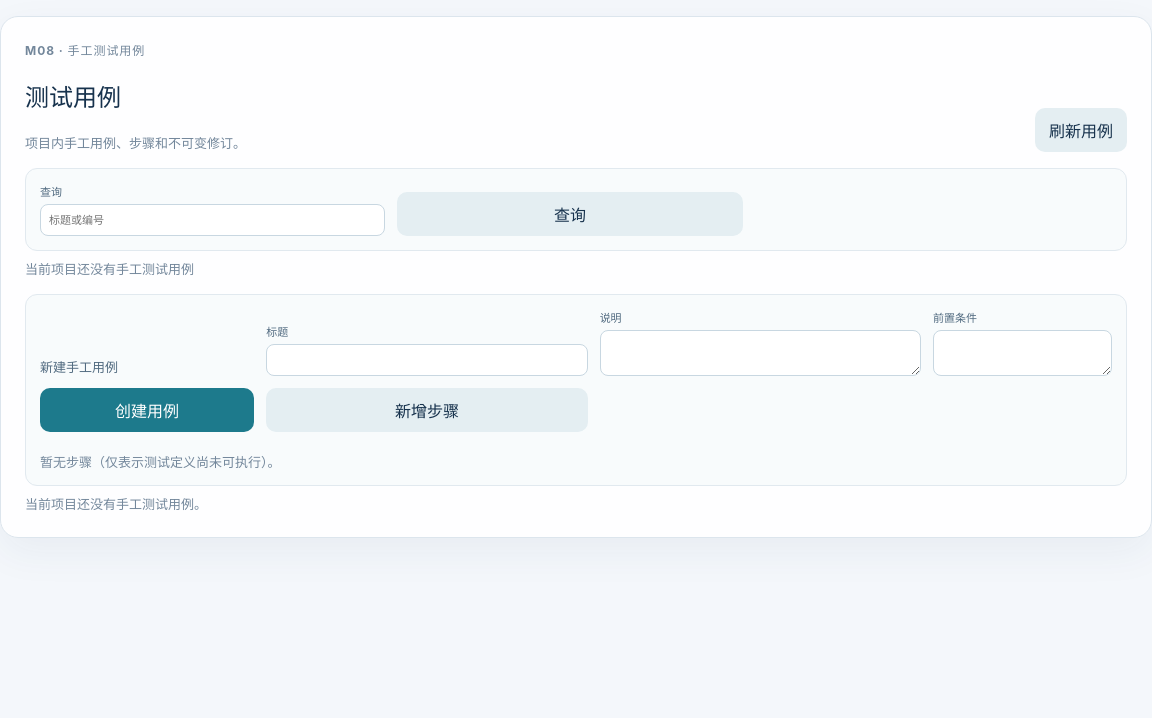
Test: TestCasesPanel › creates a manual case with step content and stable draft step key
Expected: the text "当前项目还没有手工测试用例" is shown, [25,261,194,277]
Type "Checkout" into the field named "测试用例标题" at (427, 360), box [266,344,588,376]
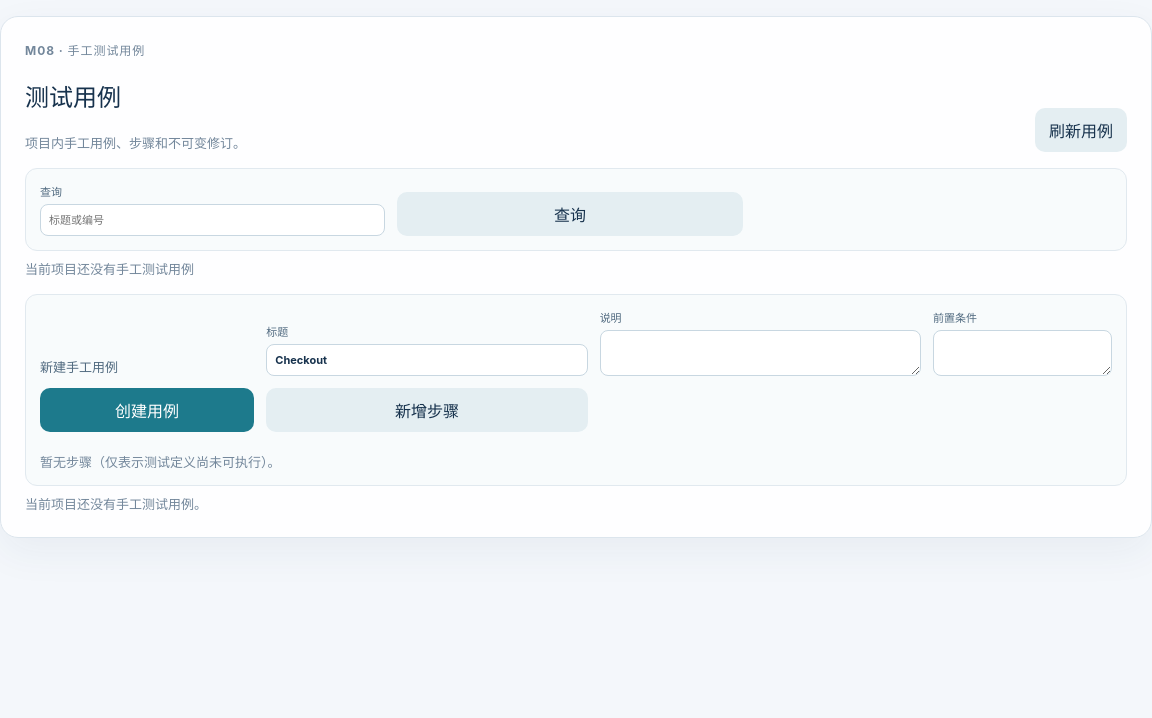
Click the button "新增步骤" at (427, 410), box [266,388,588,432]
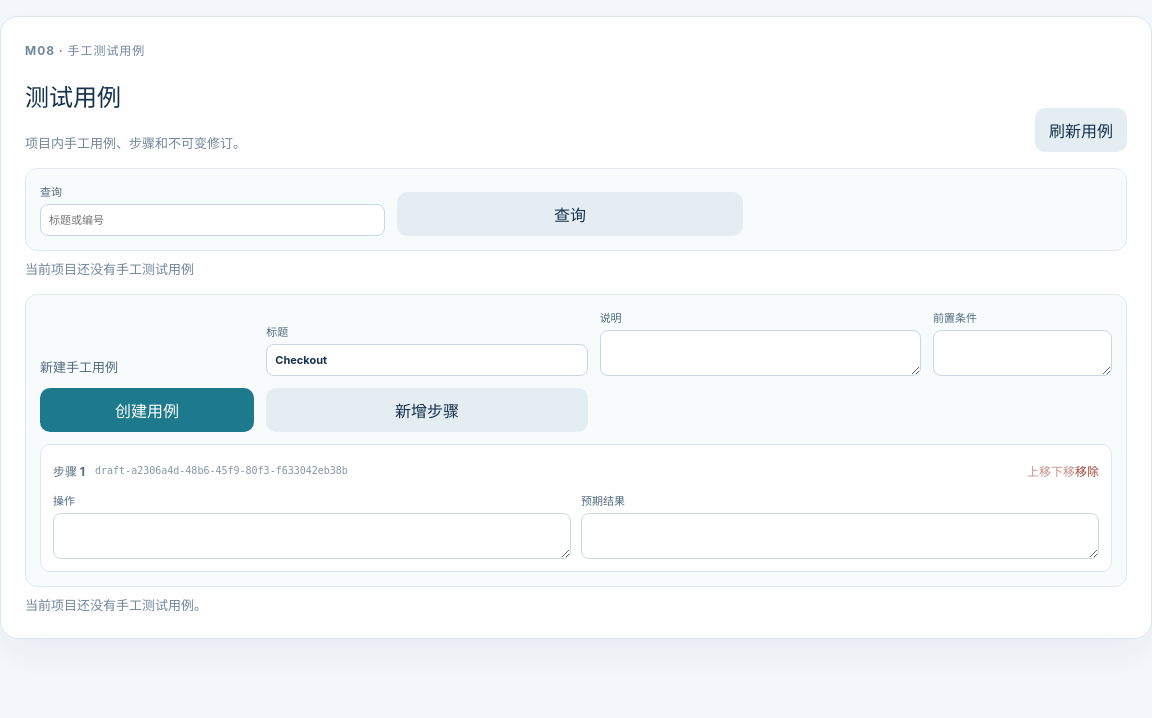
Type "Open checkout" into the text box named "步骤 1 操作" at (312, 536), box [53,513,571,559]
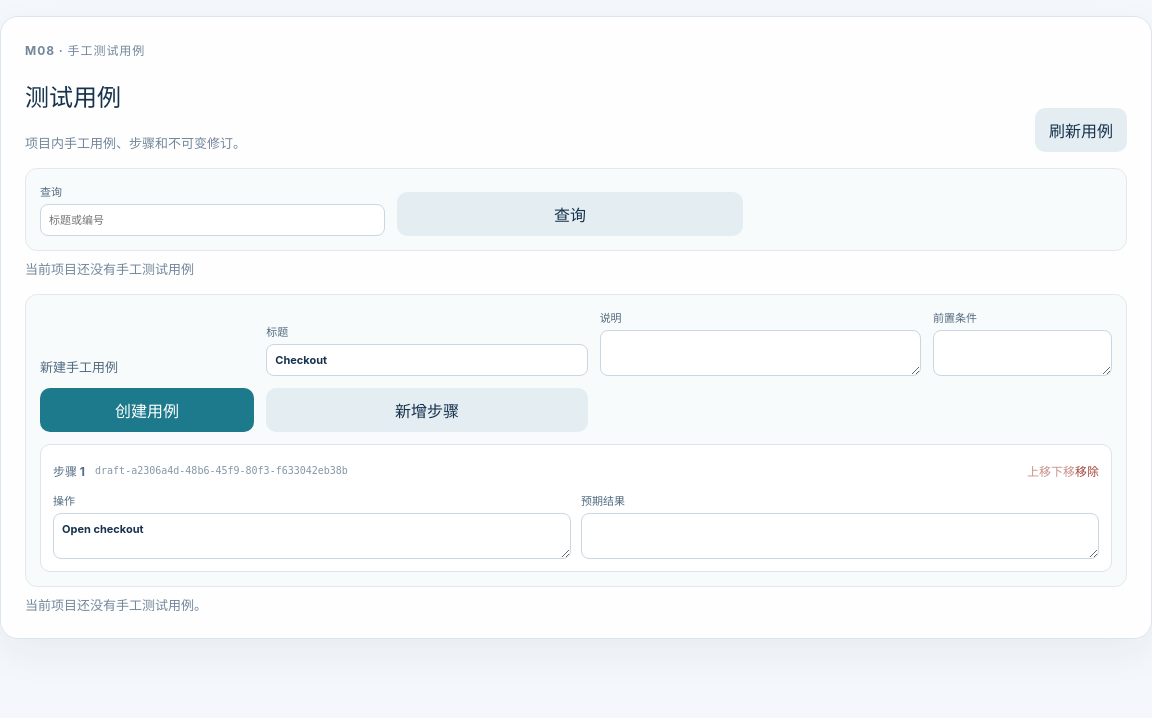
Type "Checkout is visible" into the text box named "步骤 1 预期结果" at (840, 536), box [581,513,1099,559]
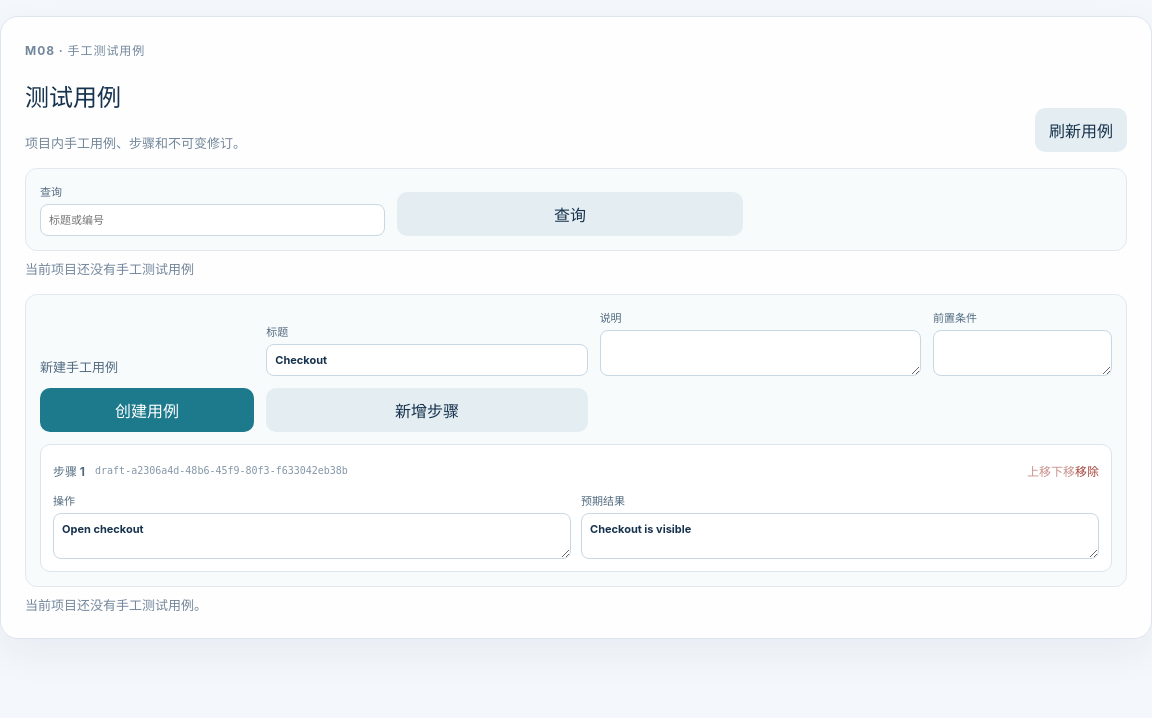
Click the button "创建用例" at (147, 410), box [40,388,254,432]
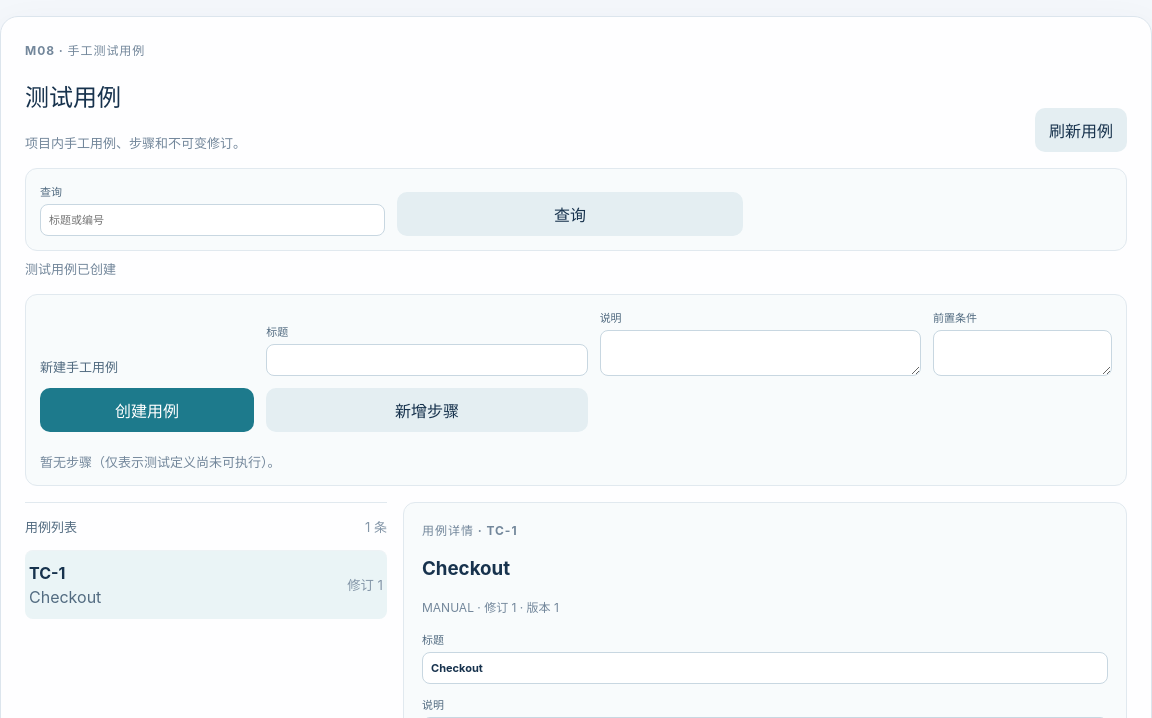
Expected: the text "Checkout" is shown, [29,587,101,607]
Expected: the text "测试用例已创建" is shown, [25,261,116,277]
